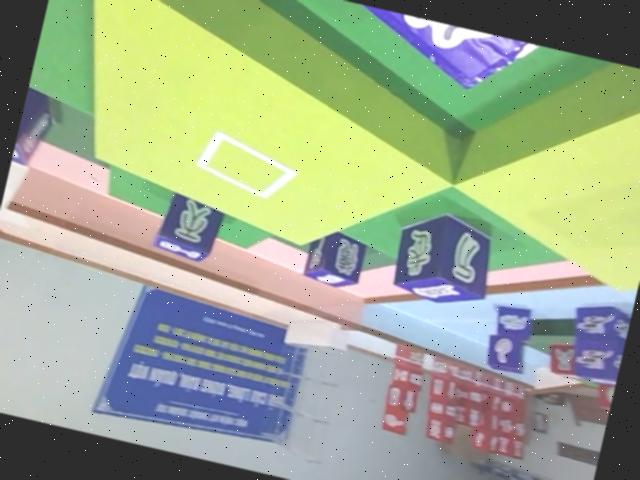R1 Blue: (558, 294, 633, 385)
R2 Fake Blue: (384, 199, 500, 309), (151, 188, 229, 265), (9, 76, 60, 172), (301, 224, 370, 292)
